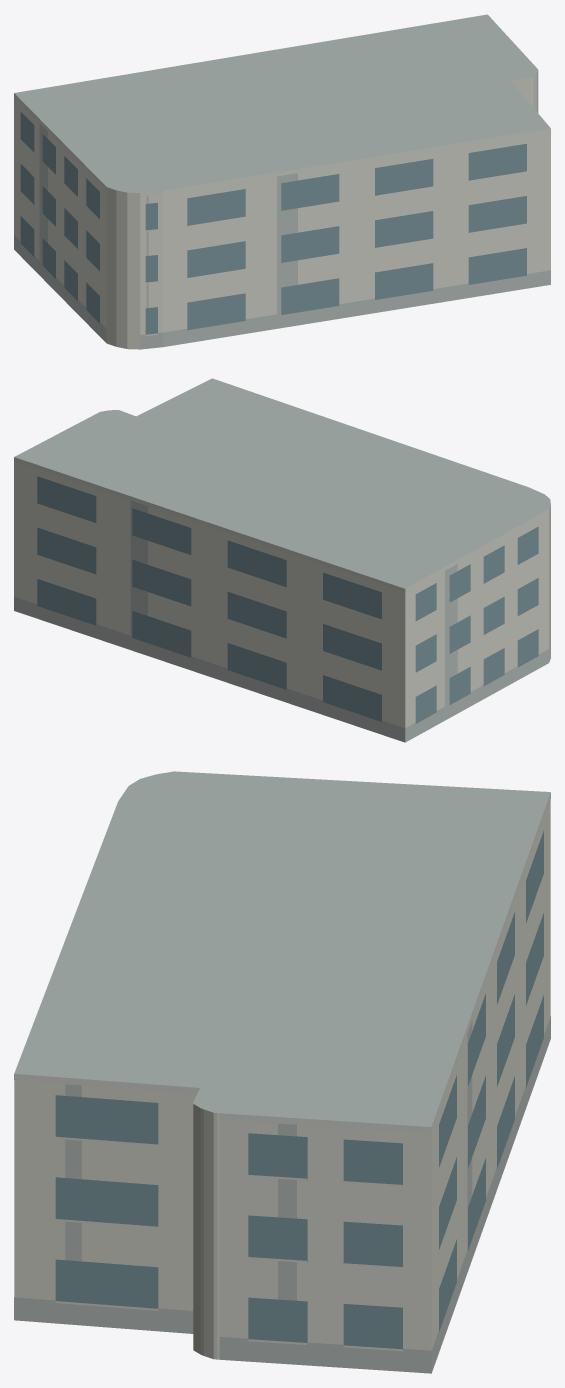
Rendered from survey-upis-32508013.glb.
The picture shows the model from 3 angles, top to bottom: view 1: azimuth 30°, elevation 25°; view 2: azimuth 150°, elevation 25°; view 3: azimuth 270°, elevation 25°; orthographic projection. The views are drawn at different scales.
Parts seen in each view (by area): view 1: survey-upis-32508013.tmp; view 2: survey-upis-32508013.tmp; view 3: survey-upis-32508013.tmp.
Part boxes in pixels (<box>): survey-upis-32508013.tmp: <box>14,14,550,349</box>; survey-upis-32508013.tmp: <box>14,378,550,742</box>; survey-upis-32508013.tmp: <box>14,771,550,1373</box>.
Size of the model in its own units: 28.32 by 9.15 by 18.06.
